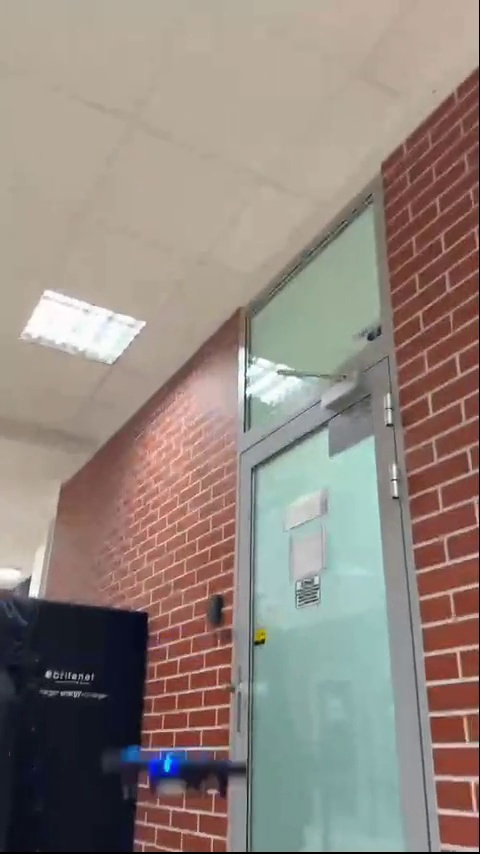drone: (101, 745, 249, 797)
